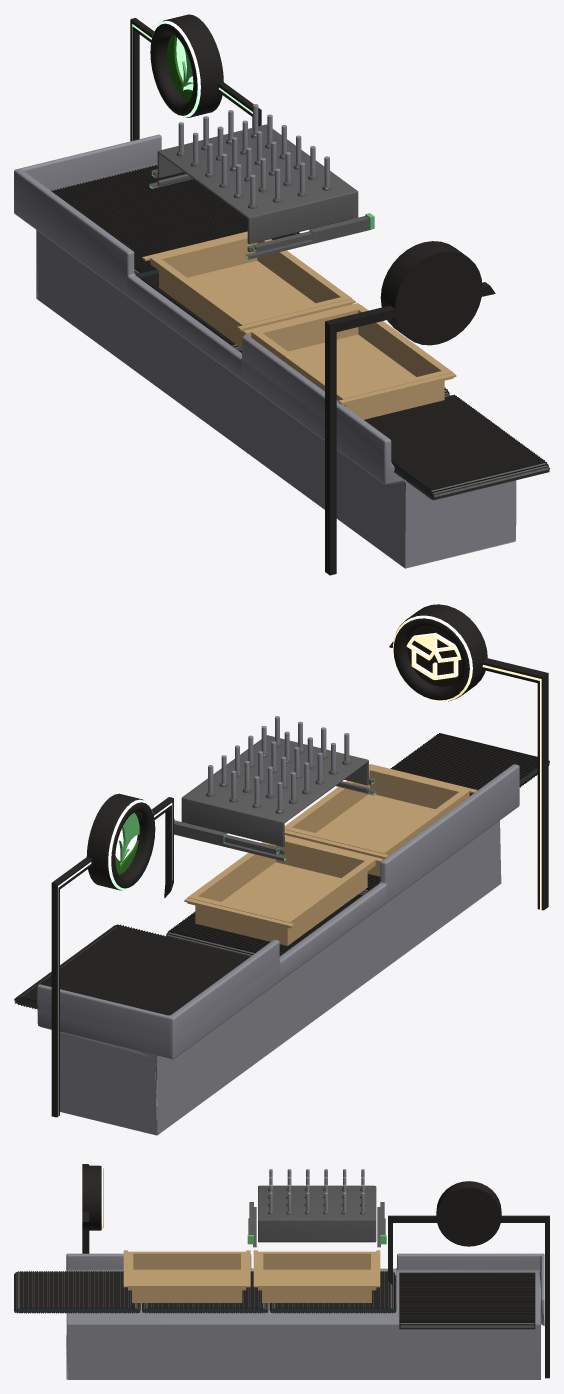
The model's file is harvesting.glb.
3 renders of one model, top to bottom at view 1: azimuth 30°, elevation 25°; view 2: azimuth 150°, elevation 25°; view 3: azimuth 270°, elevation 25°, orthographic. The views are drawn at different scales.
Parts seen in each view (by area): view 1: Cube, new_arm_plate.002, Cylinder.001, new_arm_plate.003, belte.003, belte.004, kontainer, Cylinder, Sylinder, Plane.007, Pumpe, bot.002 (+2 smaller); view 2: Cube, new_arm_plate.002, belte.004, new_arm_plate.003, Cylinder.001, kontainer, Cylinder, belte.003, Sylinder, belte.001, Cube.001, Plane.007 (+2 smaller); view 3: Cube, belte.004, new_arm_plate.003, new_arm_plate.002, kontainer, Cylinder, belte.003, belte.001, belte.002, Cylinder.001, Sylinder, Pumpe (+2 smaller).
Part boxes in pixels (x1,y1,x2,y2): Cube: (14,134,516,568); new_arm_plate.002: (142,231,355,347); Cylinder.001: (325,241,495,575); new_arm_plate.003: (243,303,456,419); belte.003: (364,394,549,500); belte.004: (51,165,299,277); kontainer: (157,124,358,252); Cylinder: (130,14,261,141); Sylinder: (178,104,329,204); Plane.007: (167,35,193,101); Pumpe: (176,132,331,208); bot.002: (309,213,374,241); Cube: (37,764,519,1135); new_arm_plate.002: (184,835,383,945); belte.004: (14,924,250,1015); new_arm_plate.003: (284,764,477,876); Cylinder.001: (389,604,548,910); kontainer: (181,735,368,854); Cylinder: (51,793,173,1117); belte.003: (390,733,549,795); Sylinder: (208,716,349,810); belte.001: (166,894,362,956); Cube.001: (406,633,461,680); Plane.007: (115,813,139,874); Cube: (66,1253,544,1379); belte.004: (399,1272,535,1329); new_arm_plate.003: (123,1250,250,1302); new_arm_plate.002: (253,1250,380,1302); kontainer: (258,1185,376,1242); Cylinder: (388,1181,549,1378); belte.003: (14,1271,140,1313); belte.001: (269,1271,396,1313); belte.002: (142,1271,268,1313); Cylinder.001: (82,1164,103,1253); Sylinder: (269,1169,364,1211); Pumpe: (268,1187,366,1214).
Bounding box in the file's own units: 2.69 × 3.45 × 8.79.
